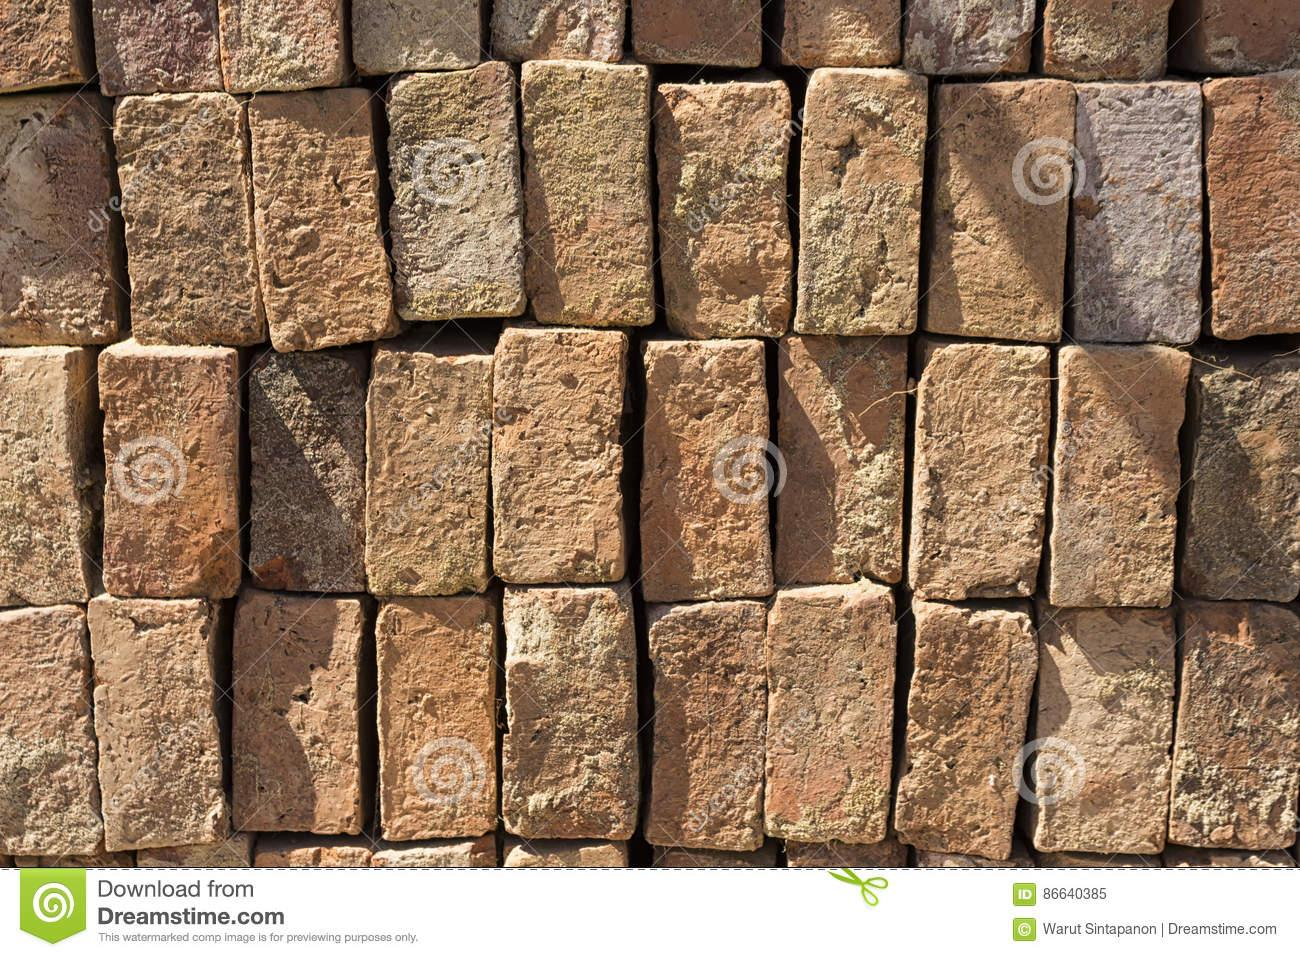brick: (247, 90, 396, 352), (115, 93, 266, 349), (929, 79, 1076, 338), (1050, 347, 1191, 607), (895, 603, 1038, 858), (908, 342, 1049, 601), (654, 80, 793, 339), (388, 63, 526, 321), (794, 67, 928, 334), (640, 338, 774, 602), (98, 349, 240, 598), (89, 596, 226, 851), (1032, 608, 1174, 854), (523, 60, 653, 326), (504, 587, 640, 840), (493, 328, 625, 584), (1069, 83, 1199, 342), (767, 582, 895, 843), (779, 335, 908, 584), (365, 346, 494, 597), (1171, 602, 1300, 850), (232, 595, 361, 832), (0, 93, 121, 343), (649, 601, 768, 850), (376, 598, 496, 839), (1181, 357, 1300, 598), (248, 352, 361, 593), (1, 603, 103, 854), (1204, 70, 1300, 334), (1, 349, 91, 608)
